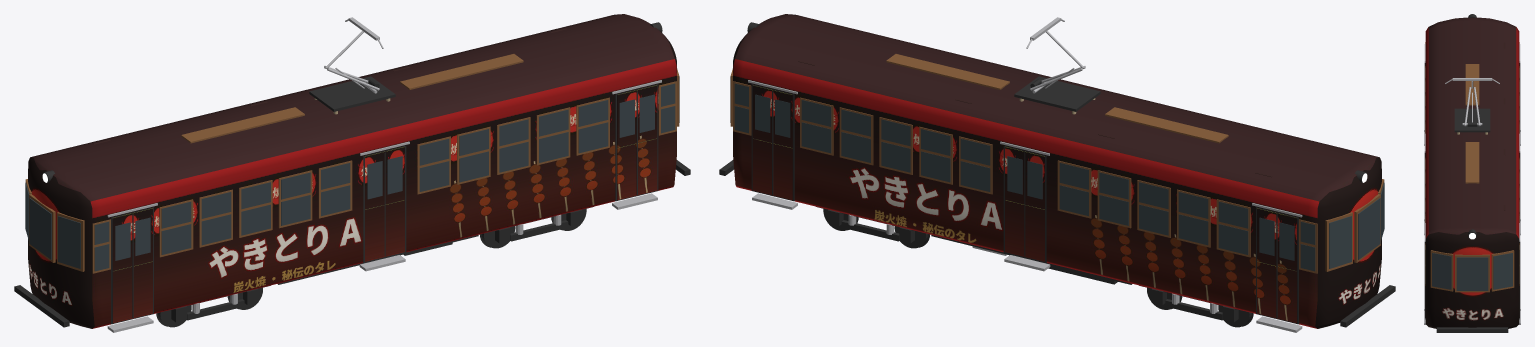
The model's file is tram-yakitori-a.glb.
3 renders of one model, left to right at view 1: azimuth 30°, elevation 25°; view 2: azimuth 150°, elevation 25°; view 3: azimuth 270°, elevation 25°, orthographic. The views are drawn at different scales.
Parts seen in each view (by area): view 1: H500_Body, H500_SideWin_Glass, H500_Door_Navy, H500_SideWin_Varnish, H500_Door_Beige, H500_Door_Glass, H500_Bogie_Dark, H500_Roof_Varnish, H500_Front_Glass, H500_Door_Dark, H500_Panta_Dark, H500_Under_Metal (+4 smaller); view 2: H500_Body, H500_SideWin_Glass, H500_Door_Navy, H500_SideWin_Varnish, H500_Door_Beige, H500_Door_Glass, H500_Bogie_Dark, H500_Roof_Varnish, H500_Front_Glass, H500_Door_Dark, H500_Panta_Dark, H500_Under_Metal (+5 smaller); view 3: H500_Body, H500_Front_Glass, H500_Roof_Varnish, H500_Front_Varnish, H500_Panta_Dark, H500_Door_Dark, H500_Front_Metal, H500_Panta_Metal, H500_SideWin_Varnish, H500_SideWin_Glass, H500_Door_Metal, H500_Under_Metal.
Part boxes in pixels (bbox=[...]): H500_Body: bbox=[28, 14, 676, 328]; H500_SideWin_Glass: bbox=[94, 83, 675, 271]; H500_Door_Navy: bbox=[112, 138, 657, 322]; H500_SideWin_Varnish: bbox=[92, 81, 676, 273]; H500_Door_Beige: bbox=[112, 85, 657, 270]; H500_Door_Glass: bbox=[115, 94, 654, 260]; H500_Bogie_Dark: bbox=[156, 206, 593, 327]; H500_Roof_Varnish: bbox=[181, 54, 523, 143]; H500_Front_Glass: bbox=[25, 76, 679, 268]; H500_Door_Dark: bbox=[110, 84, 658, 324]; H500_Panta_Dark: bbox=[309, 76, 395, 111]; H500_Under_Metal: bbox=[107, 193, 657, 332]; H500_Body: bbox=[733, 14, 1381, 328]; H500_SideWin_Glass: bbox=[734, 83, 1315, 271]; H500_Door_Navy: bbox=[752, 138, 1297, 322]; H500_SideWin_Varnish: bbox=[733, 81, 1317, 273]; H500_Door_Beige: bbox=[752, 85, 1297, 270]; H500_Door_Glass: bbox=[755, 94, 1294, 260]; H500_Bogie_Dark: bbox=[816, 206, 1253, 327]; H500_Roof_Varnish: bbox=[886, 54, 1228, 143]; H500_Front_Glass: bbox=[730, 76, 1384, 268]; H500_Door_Dark: bbox=[751, 84, 1299, 324]; H500_Panta_Dark: bbox=[1014, 76, 1100, 111]; H500_Under_Metal: bbox=[752, 193, 1302, 332]; H500_Body: bbox=[1425, 17, 1519, 328]; H500_Front_Glass: bbox=[1432, 253, 1512, 290]; H500_Roof_Varnish: bbox=[1465, 64, 1479, 183]; H500_Front_Varnish: bbox=[1430, 250, 1514, 292]; H500_Panta_Dark: bbox=[1454, 108, 1490, 132]; H500_Door_Dark: bbox=[1424, 63, 1520, 319]; H500_Front_Metal: bbox=[1436, 327, 1508, 332]; H500_Panta_Metal: bbox=[1445, 78, 1499, 126]; H500_SideWin_Varnish: bbox=[1425, 42, 1519, 285]; H500_SideWin_Glass: bbox=[1425, 68, 1519, 283]; H500_Door_Metal: bbox=[1424, 44, 1520, 241]; H500_Under_Metal: bbox=[1424, 130, 1520, 324].
Bounding box in the file's own units: 13.17 × 4.7 × 2.42.
8 materials, 1 textured.
